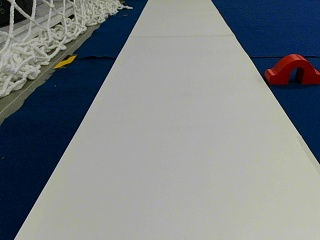bridge: (267, 53, 319, 83)
